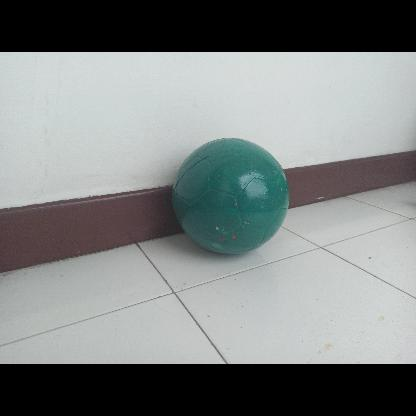green_ball: (168, 136, 288, 256)
